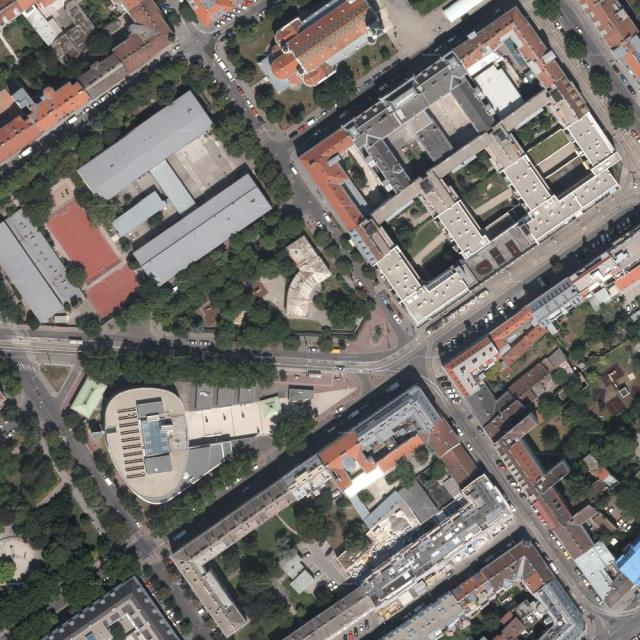building: (286, 471, 524, 640), (168, 478, 338, 640), (342, 50, 500, 196), (451, 3, 588, 151), (132, 172, 274, 290), (77, 89, 215, 205), (449, 537, 560, 639), (103, 386, 191, 506), (296, 127, 391, 235), (442, 305, 550, 400), (524, 109, 623, 202), (487, 412, 575, 505), (350, 384, 443, 469), (0, 221, 65, 324), (479, 537, 556, 611), (183, 394, 286, 448), (572, 539, 637, 610), (356, 489, 424, 556), (21, 71, 92, 135), (464, 222, 535, 285), (419, 416, 481, 488), (400, 266, 471, 328), (381, 590, 469, 640), (354, 128, 414, 197), (316, 429, 378, 493), (519, 185, 585, 244), (177, 383, 288, 415), (435, 199, 491, 260), (533, 576, 586, 640), (370, 177, 431, 228), (432, 132, 495, 181), (372, 244, 425, 302), (502, 154, 554, 212), (109, 189, 168, 239), (76, 50, 131, 101), (345, 215, 397, 268), (463, 374, 516, 426), (281, 455, 335, 506), (149, 158, 196, 215), (507, 362, 560, 412), (500, 88, 555, 136), (179, 441, 237, 485), (410, 168, 457, 218), (500, 321, 549, 368), (376, 432, 427, 476), (570, 167, 619, 212), (479, 125, 525, 172), (482, 398, 530, 443), (572, 453, 618, 499), (552, 515, 595, 561), (317, 429, 360, 466), (500, 412, 541, 450), (597, 572, 635, 610), (540, 486, 576, 526), (188, 0, 238, 28), (541, 347, 577, 384), (531, 496, 562, 532), (548, 96, 579, 129), (442, 0, 484, 24), (567, 502, 599, 531), (278, 553, 308, 582), (493, 616, 529, 640), (512, 600, 540, 629), (289, 568, 316, 596), (10, 86, 36, 113), (105, 12, 131, 36), (547, 86, 565, 104)
greenland: (0, 47, 205, 218), (113, 192, 304, 354), (140, 437, 268, 544), (205, 99, 303, 210), (0, 13, 96, 122), (117, 337, 278, 389), (9, 485, 100, 572), (63, 455, 136, 548), (0, 408, 52, 527), (232, 547, 296, 640), (0, 558, 66, 640), (109, 268, 178, 344), (136, 561, 199, 638), (261, 389, 327, 459), (312, 275, 379, 342), (445, 149, 511, 215), (50, 544, 110, 615), (88, 525, 145, 589), (575, 297, 637, 355), (307, 60, 367, 119), (11, 173, 68, 231), (74, 333, 126, 392), (66, 183, 126, 234), (11, 447, 62, 505), (343, 32, 399, 80), (291, 488, 338, 545), (232, 11, 282, 64), (55, 566, 108, 615), (94, 538, 145, 588), (34, 418, 79, 474), (216, 33, 262, 87), (552, 458, 601, 508), (4, 601, 63, 640), (550, 363, 596, 413), (174, 51, 220, 98), (248, 79, 291, 128), (463, 599, 514, 640), (558, 398, 609, 438), (514, 109, 561, 150), (555, 423, 598, 466), (57, 403, 95, 446), (111, 483, 150, 524), (576, 309, 615, 350), (37, 536, 76, 574), (252, 512, 287, 554), (16, 401, 43, 454), (308, 224, 344, 263), (277, 578, 317, 613), (72, 306, 108, 342), (386, 214, 422, 249), (339, 517, 370, 556), (0, 274, 24, 323), (215, 544, 249, 577), (616, 476, 640, 522), (0, 350, 23, 396), (38, 419, 67, 454), (89, 446, 117, 482), (306, 578, 337, 610), (534, 390, 564, 423), (535, 421, 565, 454), (588, 62, 615, 98), (63, 255, 89, 290), (609, 94, 634, 129), (85, 27, 113, 58), (266, 0, 311, 19), (564, 335, 592, 365), (563, 29, 588, 59), (273, 526, 300, 553), (330, 495, 352, 527), (174, 0, 200, 27), (308, 224, 334, 250), (621, 392, 640, 426), (254, 82, 276, 111), (279, 330, 303, 356), (234, 16, 259, 40), (210, 82, 229, 110), (162, 7, 185, 30), (409, 1, 446, 15), (316, 325, 334, 353), (346, 246, 367, 268), (241, 530, 263, 551), (287, 102, 308, 124), (0, 555, 16, 583), (22, 310, 42, 332), (337, 232, 355, 254), (335, 255, 352, 275), (377, 42, 394, 61), (360, 263, 378, 279), (80, 512, 91, 524)
metalled_road: (406, 339, 616, 638), (289, 0, 517, 155), (162, 417, 344, 552), (13, 343, 135, 542), (361, 524, 534, 640), (168, 14, 278, 129), (298, 363, 428, 453), (255, 116, 328, 227), (275, 337, 433, 387), (151, 555, 219, 640), (347, 300, 419, 376), (0, 326, 82, 373), (0, 323, 83, 355), (132, 534, 159, 560), (357, 373, 376, 397)
